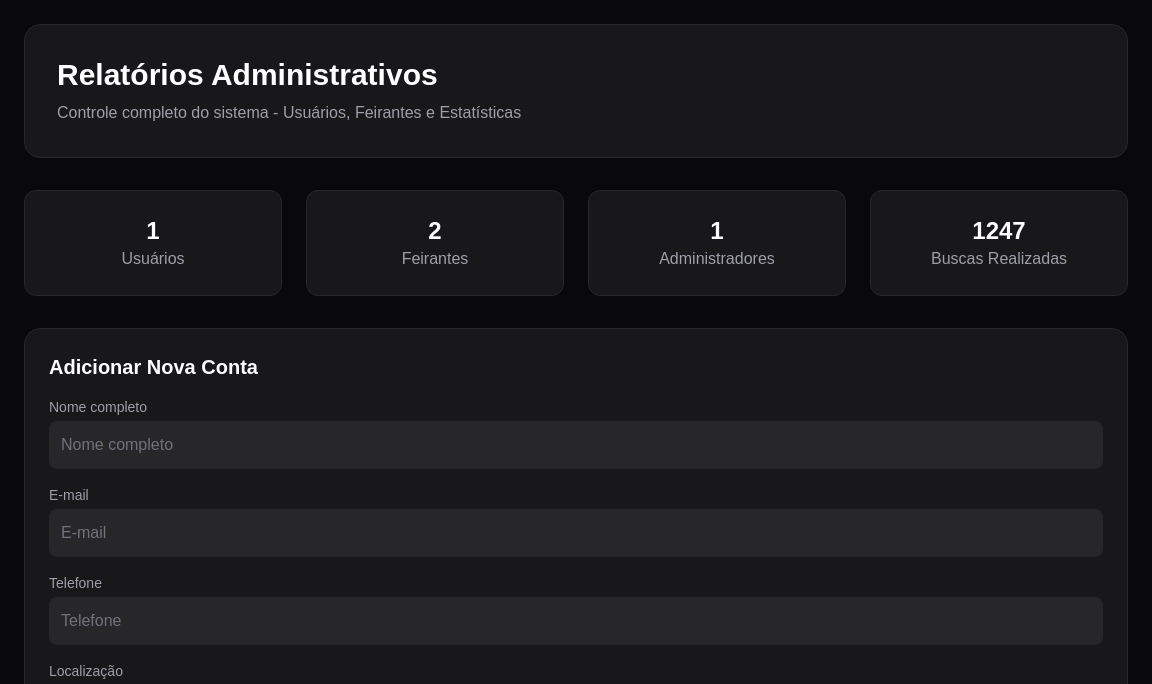
Scenario: deve adicionar nova conta
Step 1. Type "Novo Usuário" into the field with placeholder "Nome completo" → point(576, 445), box [49,421,1103,469]
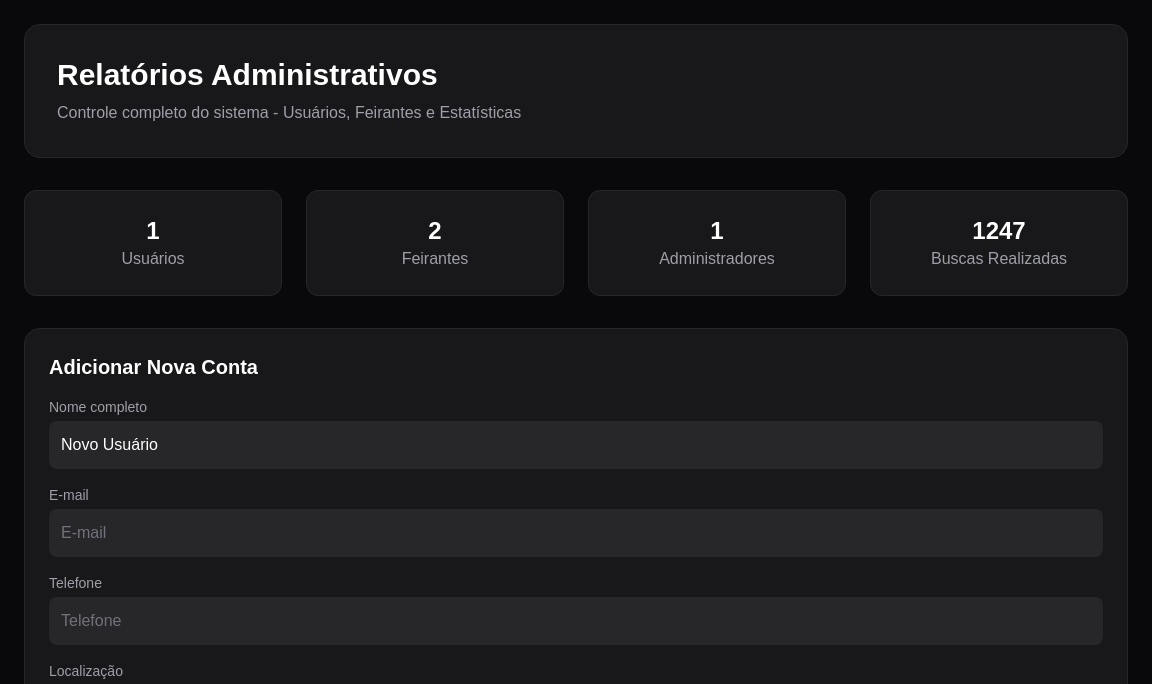
Step 2. Type "novo@email.com" into the field with placeholder "E-mail" → point(576, 533), box [49,509,1103,557]
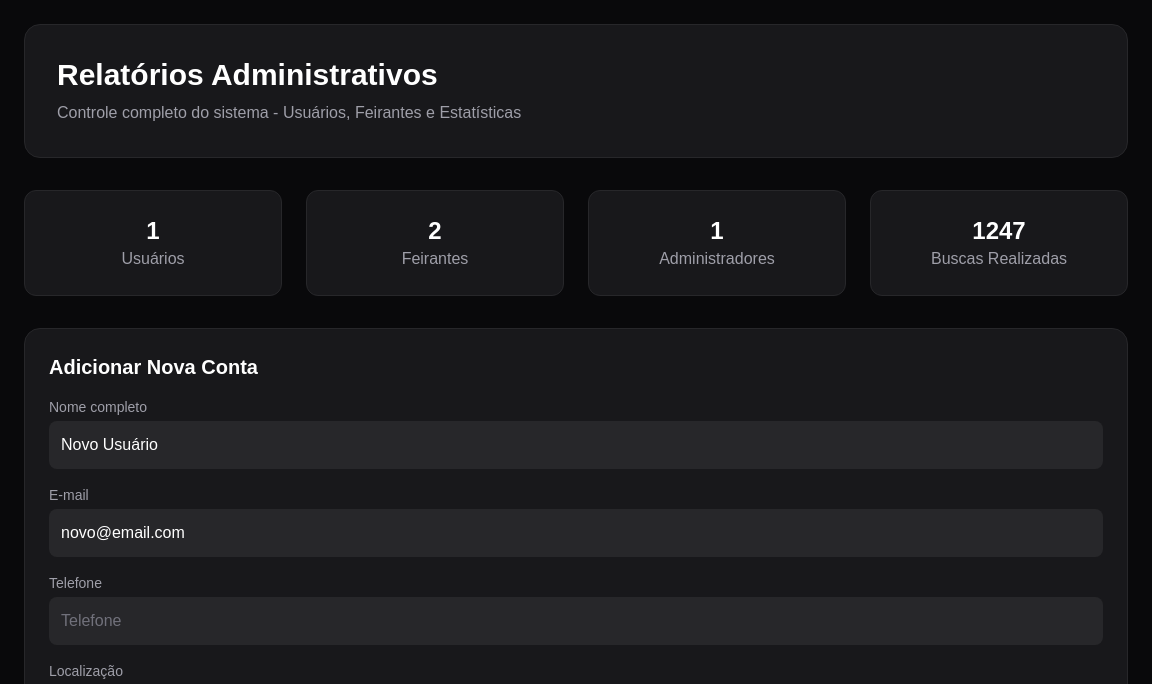
Step 3. Type "(11) 95555-5555" into the field with placeholder "Telefone" → point(576, 621), box [49,597,1103,645]
(page scrolled)
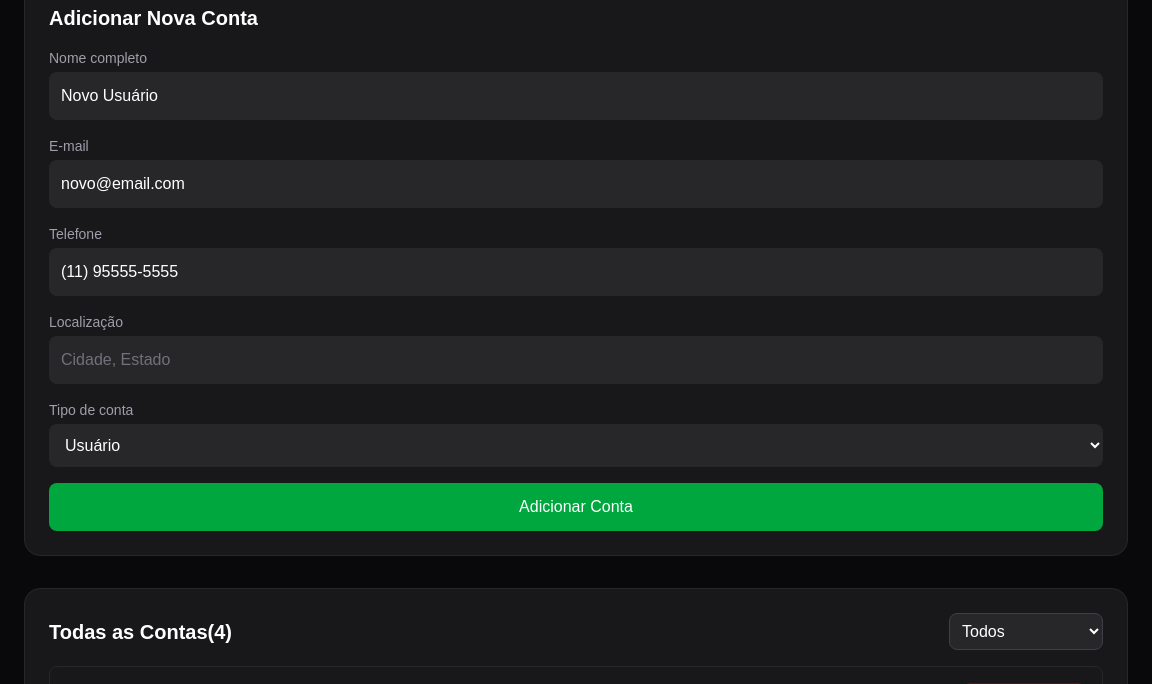
Step 4. Type "São Paulo, SP" into the field with placeholder "Cidade, Estado" → point(576, 360), box [49,336,1103,384]
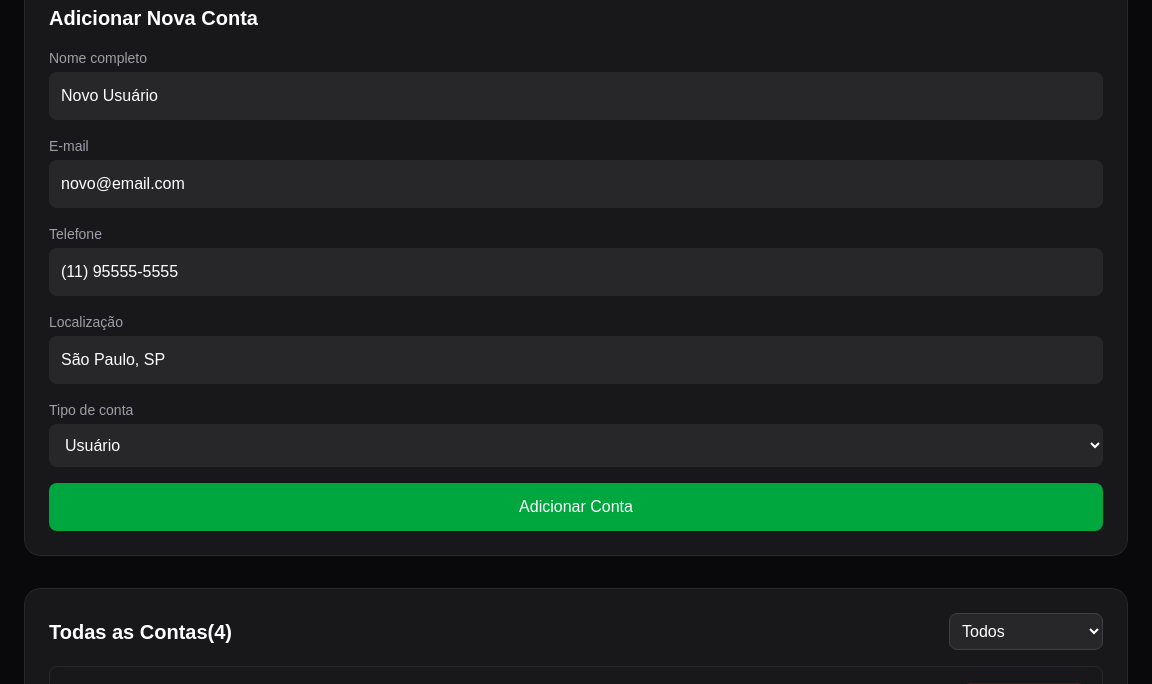
Step 5. Click the button "Adicionar Conta" → point(576, 507), box [49,483,1103,531]
(page scrolled)
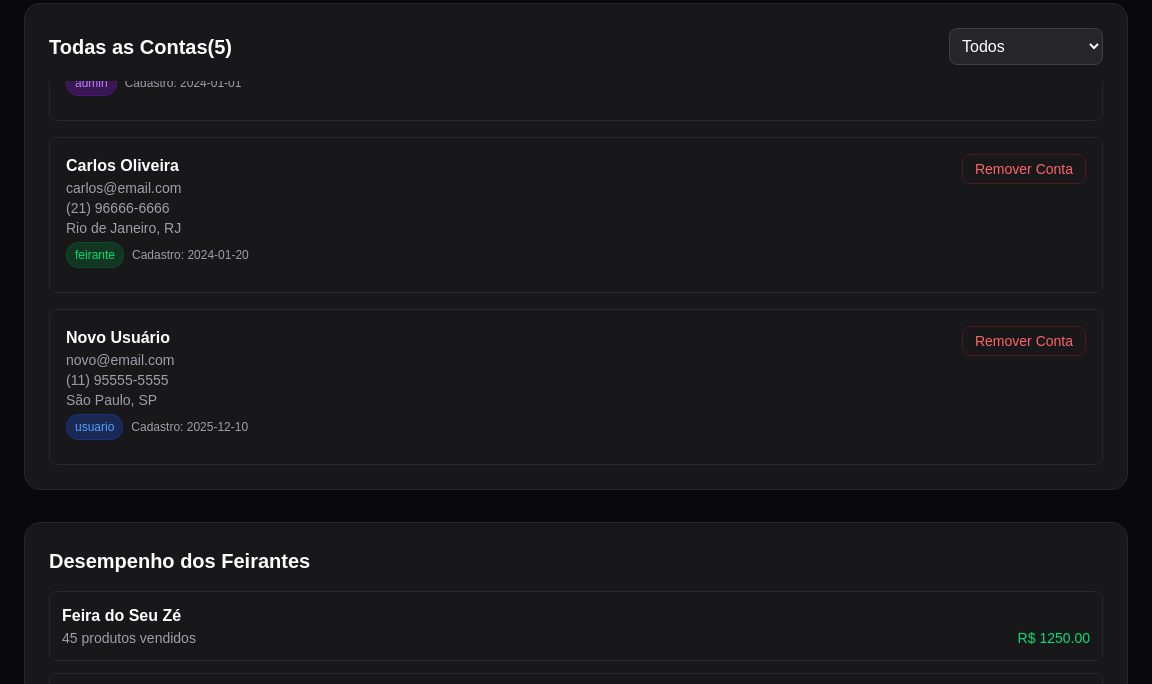
Expected: the heading "Novo Usuário" is shown, [66,329,170,346]
Expected: the text "novo@email.com" is shown, [66,352,174,368]
